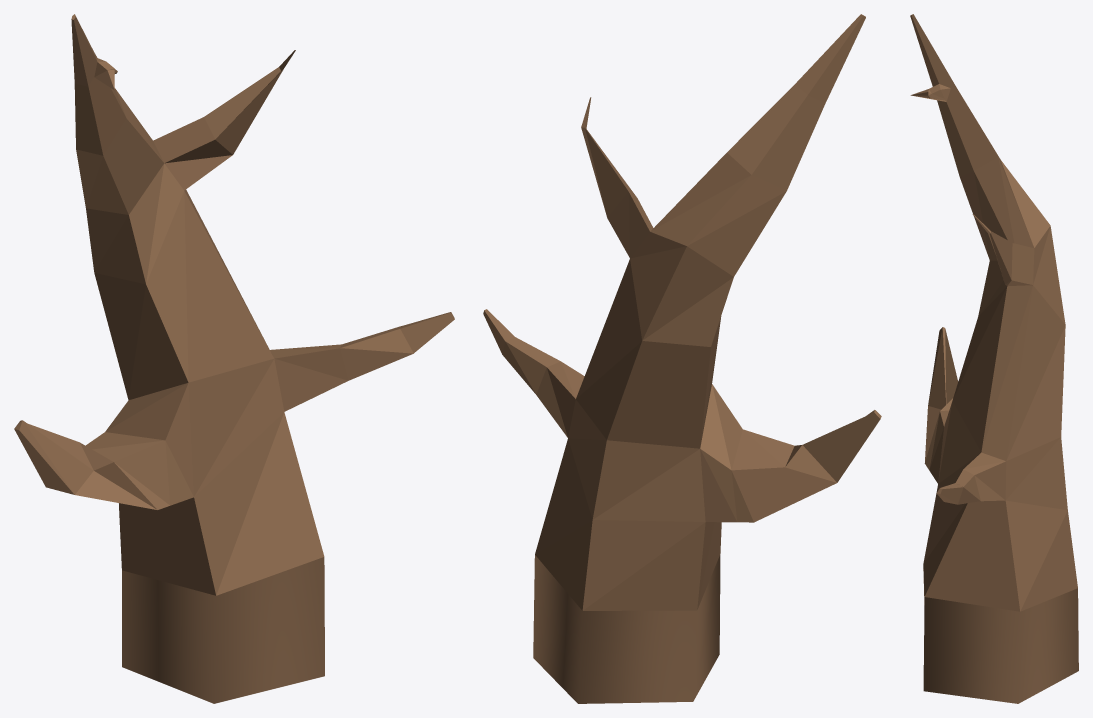
File: Tree model 1.gltf
3 views of the same model, side by side, from view 1: azimuth 30°, elevation 25°; view 2: azimuth 150°, elevation 25°; view 3: azimuth 270°, elevation 25° (orthographic). The views are drawn at different scales.
Parts seen in each view (by area): view 1: Cylinder001; view 2: Cylinder001; view 3: Cylinder001.
Part boxes in pixels (box(x1,y1,x2,y2)): Cylinder001: box(14, 14, 454, 703); Cylinder001: box(483, 14, 881, 703); Cylinder001: box(910, 14, 1078, 703).
Bounding box in the file's own units: 144 × 230 × 60.67.
